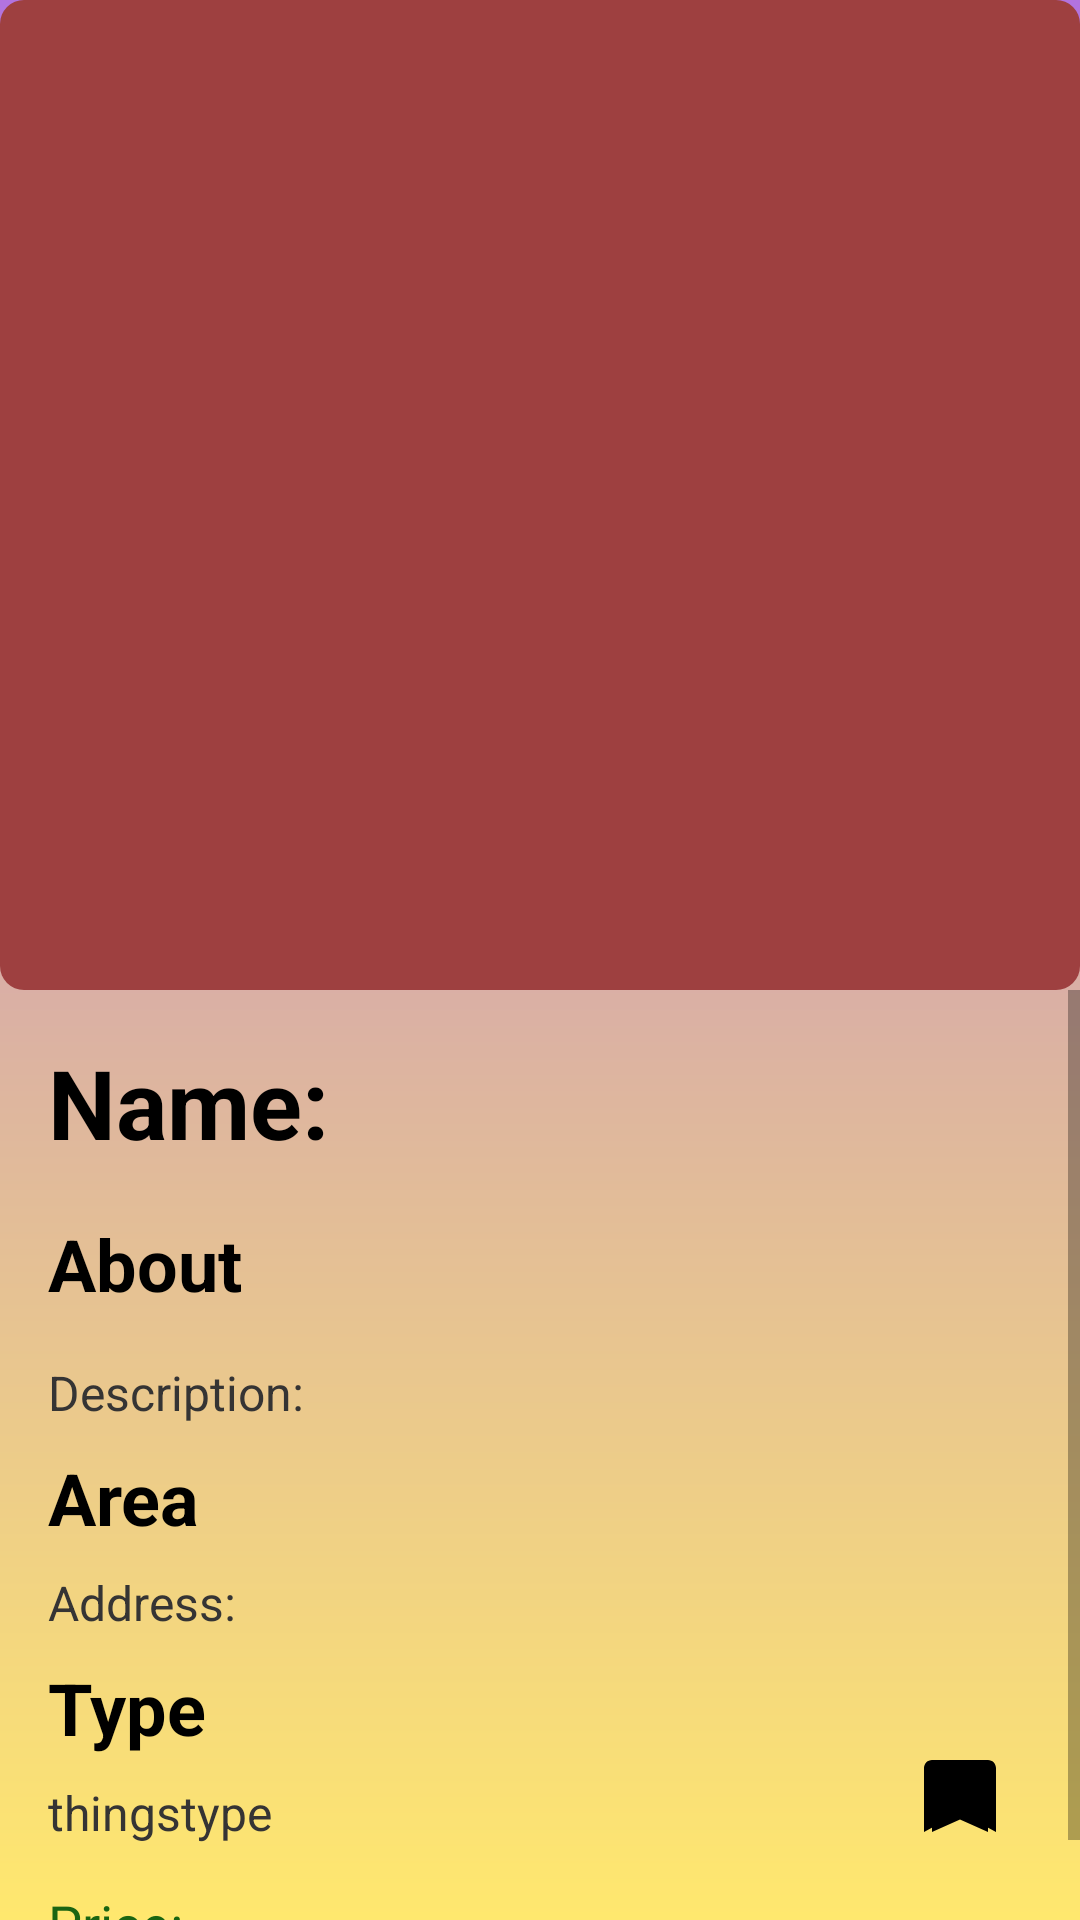

Icons on this 1080w x 1920h Android screen, each with its box as (x1, y1, x2, y2):
bookmark: (924, 1760, 996, 1832)
